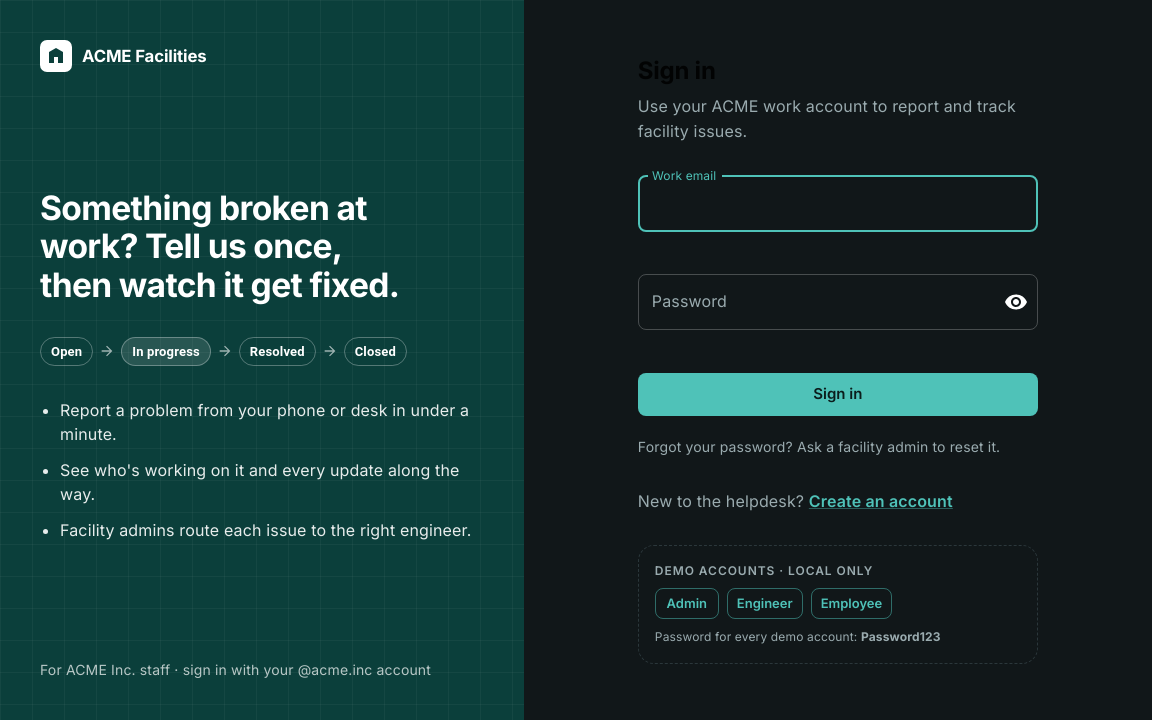
Test: Login page › fills in a demo account in local development
The width and height of the screenshot is (1152, 720).
Click the button "Engineer" at {"x": 765, "y": 604}, box [727,588,803,619]
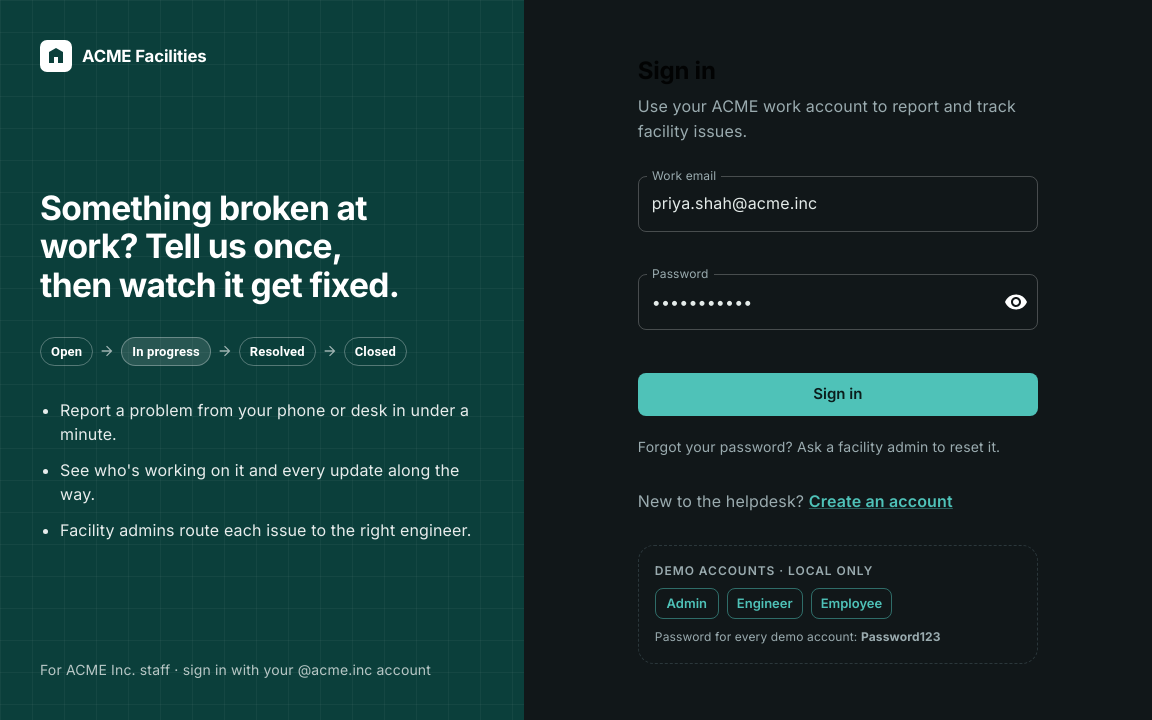
Check: the field labelled "Work email" holds "priya.shah@acme.inc", box [638,176,1038,232]
Check: the password field labelled "Password" holds "Password123", box [638,274,988,330]
